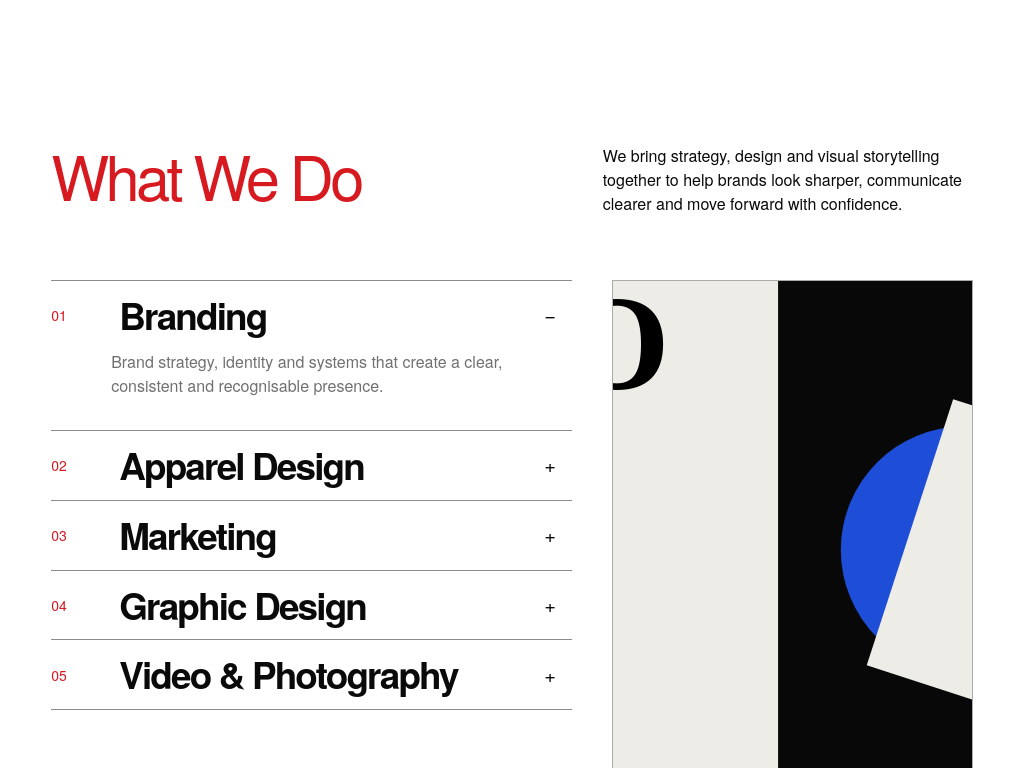
Test case: ServicesPreview › offers the five reference categories and expands their details
This screenshot has width=1024, height=768.
expect the button "01 Branding −" is shown: met, box [51,281,572,350]
expect the button "03 Marketing +" is shown: met, box [51,501,572,570]
Click the button "02 Apparel Design +": (312, 465) [51,431,572,500]
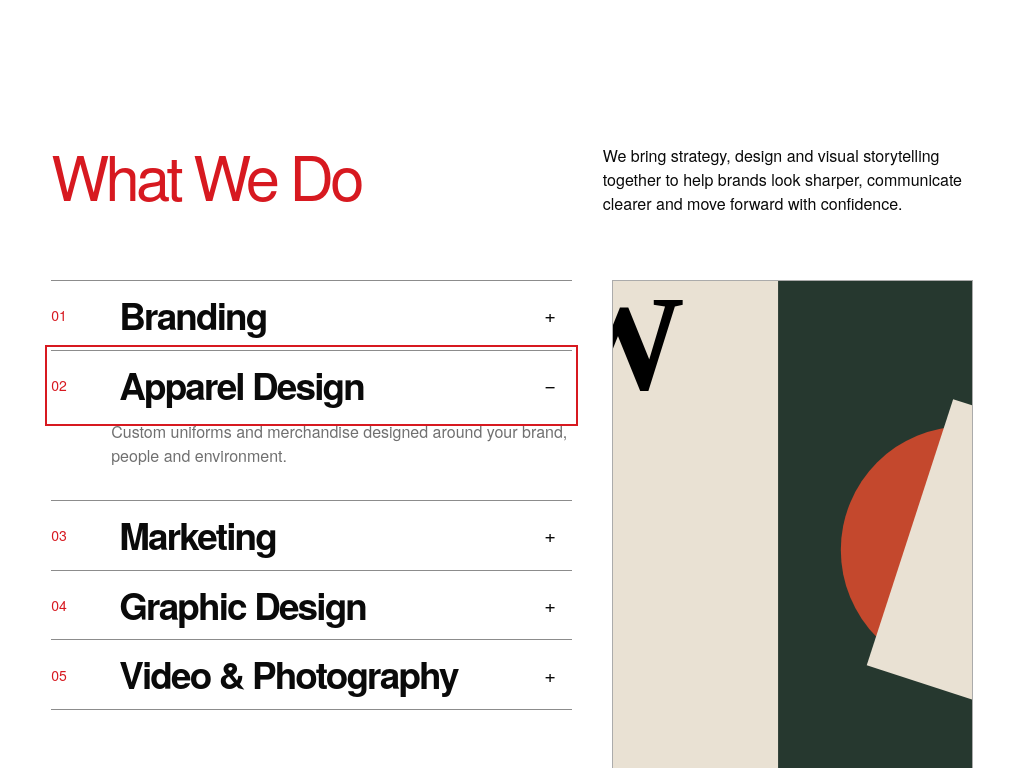
expect the button "02 Apparel Design −" is expanded: met, box [51,351,572,420]
expect the text "uniforms and merchandise" is shown: met, box [111,420,567,467]
